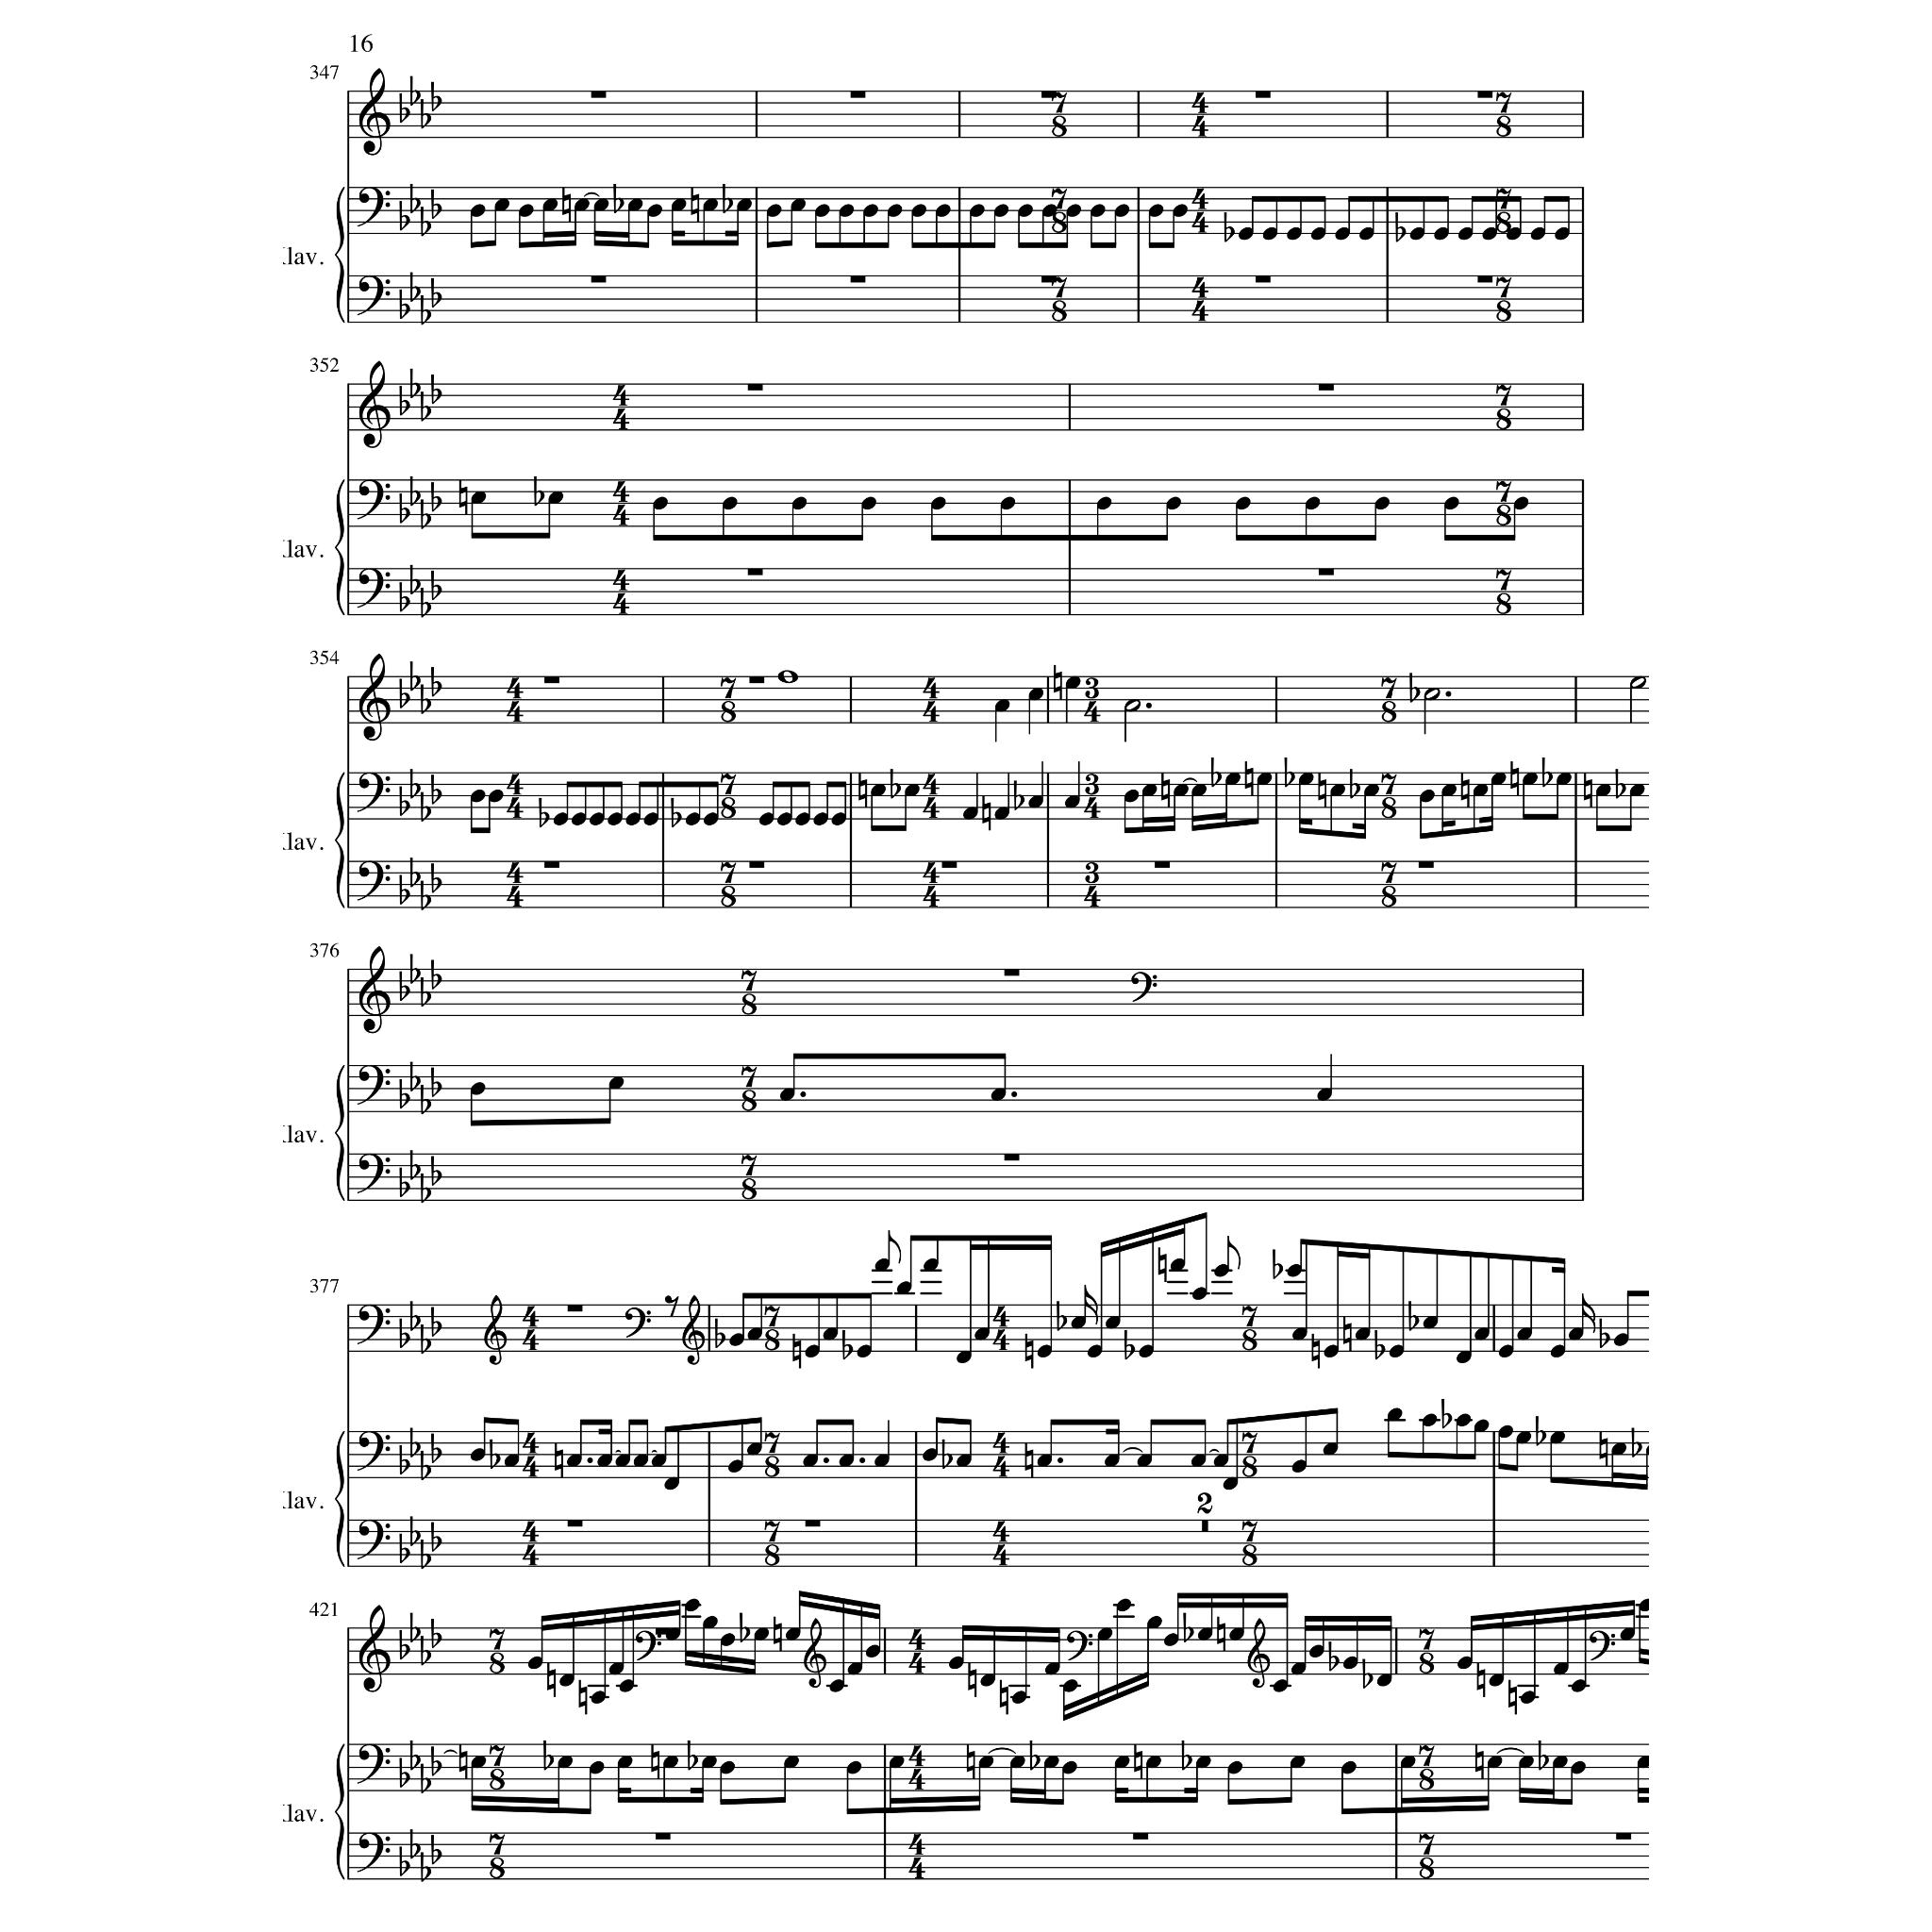brace: (334, 186, 345, 324), (334, 479, 345, 617), (334, 771, 345, 909), (334, 1430, 345, 1568), (334, 1065, 345, 1201), (334, 1744, 345, 1881)
fClef: (357, 276, 391, 317), (357, 188, 391, 228), (357, 568, 391, 609), (357, 479, 391, 520), (357, 771, 391, 812), (357, 1154, 391, 1194), (357, 1065, 391, 1106), (357, 1304, 391, 1345), (357, 1520, 391, 1560), (357, 1431, 391, 1472), (357, 1744, 391, 1785), (357, 1833, 391, 1874), (357, 862, 391, 901)
flag16thUp: (1582, 1293, 1596, 1334), (1085, 1286, 1099, 1325)
flag8thUp: (888, 1230, 902, 1263), (1228, 1235, 1240, 1270)
gClef: (359, 67, 391, 157), (359, 361, 391, 449), (359, 653, 391, 741), (359, 947, 391, 1035), (359, 1605, 391, 1693)
noteheadBlack: (573, 198, 591, 212), (1440, 784, 1458, 798), (587, 812, 605, 826), (830, 812, 847, 826), (745, 1442, 763, 1456), (1497, 1345, 1514, 1359), (1610, 1442, 1628, 1456), (1454, 1414, 1472, 1428), (1042, 1755, 1060, 1769), (1113, 1755, 1131, 1769), (616, 1755, 633, 1769), (587, 1760, 605, 1775), (701, 1755, 718, 1769), (626, 198, 642, 212), (671, 198, 686, 212), (593, 198, 609, 212), (736, 198, 752, 212), (702, 198, 718, 212), (541, 198, 557, 212), (494, 198, 510, 212), (791, 198, 807, 212), (1330, 784, 1346, 798), (1419, 789, 1435, 803), (1364, 784, 1380, 798), (1141, 784, 1157, 798), (1123, 789, 1139, 803), (1065, 676, 1081, 690), (1191, 784, 1207, 798), (1173, 784, 1189, 798), (1472, 784, 1488, 798), (1629, 784, 1645, 798), (1596, 784, 1612, 798), (642, 812, 658, 826), (625, 812, 640, 826), (685, 812, 701, 826), (607, 812, 623, 826), (702, 812, 718, 826), (757, 812, 773, 826), (552, 812, 568, 826), (487, 789, 502, 803), (469, 789, 485, 803), (994, 699, 1010, 713), (1063, 794, 1079, 809), (1028, 794, 1044, 809), (794, 812, 810, 826), (812, 812, 828, 826), (777, 812, 793, 826), (904, 784, 920, 798), (870, 784, 886, 798), (609, 1076, 625, 1090), (469, 1081, 485, 1095), (856, 1345, 872, 1359), (922, 1447, 938, 1461), (895, 1281, 911, 1295), (874, 1258, 890, 1272), (823, 1327, 839, 1341), (805, 1345, 821, 1359), (1070, 1316, 1086, 1330), (975, 1327, 991, 1341), (1037, 1345, 1053, 1359), (924, 1258, 939, 1272), (469, 1447, 485, 1461), (727, 1460, 743, 1474), (747, 1327, 763, 1341), (729, 1332, 745, 1346), (1516, 1327, 1532, 1341), (1550, 1345, 1566, 1359), (1474, 1327, 1490, 1341), (1474, 1419, 1490, 1433), (1614, 1332, 1629, 1346), (1192, 1288, 1208, 1302), (1286, 1263, 1302, 1277), (1214, 1263, 1230, 1277), (1106, 1316, 1122, 1330), (1086, 1345, 1102, 1359), (1169, 1258, 1185, 1272), (1138, 1345, 1154, 1359), (1389, 1345, 1405, 1359), (1387, 1408, 1403, 1422), (1353, 1327, 1369, 1341), (1422, 1316, 1438, 1330), (1421, 1414, 1437, 1428), (1292, 1460, 1307, 1474), (1323, 1345, 1339, 1359), (1322, 1442, 1338, 1456), (1292, 1327, 1307, 1341), (1226, 1760, 1242, 1775), (1194, 1755, 1210, 1769), (1272, 1679, 1288, 1693), (1341, 1760, 1357, 1775), (1290, 1755, 1306, 1769), (1062, 1760, 1077, 1775), (1062, 1679, 1077, 1693), (1146, 1755, 1162, 1769), (1146, 1615, 1162, 1629), (1571, 1760, 1587, 1775), (1518, 1755, 1534, 1769), (1552, 1755, 1568, 1769), (1571, 1679, 1587, 1693), (1401, 1755, 1417, 1769), (1343, 1656, 1359, 1670), (1488, 1755, 1504, 1769), (1458, 1656, 1474, 1670), (619, 1679, 635, 1693), (663, 1755, 679, 1769), (557, 1755, 573, 1769), (471, 1755, 487, 1769), (527, 1656, 543, 1670), (948, 1656, 964, 1670), (888, 1755, 904, 1769), (1010, 1755, 1026, 1769), (978, 1755, 994, 1769), (784, 1755, 800, 1769), (702, 1615, 718, 1629), (720, 1760, 736, 1775), (846, 1760, 862, 1775), (828, 1679, 844, 1693), (1113, 205, 1131, 218), (1553, 228, 1571, 241), (517, 205, 534, 218), (801, 1454, 819, 1467), (502, 1454, 520, 1467), (1454, 1352, 1472, 1364), (1497, 1426, 1514, 1438), (1228, 1628, 1246, 1640), (571, 812, 586, 826), (1569, 1327, 1583, 1341), (1261, 228, 1277, 241), (1237, 228, 1253, 241), (1359, 228, 1375, 241), (1334, 228, 1350, 241), (1309, 228, 1325, 241), (1286, 228, 1302, 241), (1040, 205, 1056, 218), (1148, 205, 1164, 218), (1090, 205, 1106, 218), (1065, 205, 1081, 218), (1173, 205, 1189, 218), (1530, 228, 1546, 241), (1433, 228, 1449, 241), (1408, 228, 1424, 241), (1506, 228, 1522, 241), (1481, 228, 1497, 241), (1458, 228, 1474, 241), (648, 205, 663, 218), (766, 205, 782, 218), (469, 205, 485, 218), (970, 205, 985, 218), (934, 205, 950, 218), (911, 205, 927, 218), (886, 205, 902, 218), (1017, 205, 1033, 218), (993, 205, 1008, 218), (814, 205, 830, 218), (839, 205, 855, 218), (863, 205, 879, 218), (1166, 497, 1182, 510), (1235, 497, 1251, 510), (1095, 497, 1111, 510), (1304, 497, 1320, 510), (1375, 497, 1391, 510), (1444, 497, 1460, 510), (1513, 497, 1529, 510), (471, 492, 487, 504), (548, 492, 564, 504), (1000, 497, 1016, 510), (931, 497, 947, 510), (722, 497, 738, 510), (791, 497, 807, 510), (862, 497, 878, 510), (653, 497, 669, 510), (1299, 773, 1315, 786), (1256, 773, 1272, 786), (1224, 773, 1240, 786), (1522, 773, 1537, 786), (1490, 773, 1506, 786), (1557, 773, 1573, 786), (994, 807, 1010, 819), (962, 807, 978, 819), (1028, 688, 1044, 701), (991, 1088, 1007, 1100), (1316, 1088, 1332, 1100), (780, 1088, 796, 1100), (874, 1454, 890, 1467), (839, 1454, 855, 1467), (1037, 1454, 1053, 1467), (955, 1352, 971, 1364), (955, 1454, 971, 1467), (566, 1454, 582, 1467), (596, 1454, 612, 1467), (633, 1454, 649, 1467), (651, 1454, 667, 1467), (663, 1477, 679, 1490), (1516, 1431, 1532, 1444), (1550, 1431, 1566, 1444), (1212, 1454, 1228, 1467), (1223, 1477, 1238, 1490), (1136, 1454, 1152, 1467), (1104, 1454, 1120, 1467), (1198, 1628, 1214, 1640), (1292, 1663, 1307, 1675), (1309, 1645, 1325, 1658), (1097, 1628, 1113, 1640), (1044, 1663, 1060, 1675), (1162, 1633, 1178, 1645), (1116, 1599, 1132, 1612), (1553, 1663, 1569, 1675), (1520, 1691, 1536, 1704), (1619, 1628, 1635, 1640), (1376, 1674, 1392, 1686), (1488, 1674, 1504, 1686), (609, 1663, 625, 1675), (559, 1674, 575, 1686), (591, 1691, 607, 1704), (683, 1599, 699, 1612), (665, 1628, 681, 1640), (980, 1674, 996, 1686), (1010, 1691, 1026, 1704), (865, 1645, 881, 1658), (754, 1628, 770, 1640), (720, 1633, 736, 1645), (847, 1663, 863, 1675), (784, 1628, 800, 1640), (616, 1454, 630, 1467), (1191, 1454, 1205, 1467)
noteheadHalf: (1629, 676, 1645, 690), (1123, 701, 1141, 713), (1424, 688, 1440, 701)
noteheadWhole: (777, 671, 798, 685)
rest8th: (663, 1295, 679, 1318)
restHNr: (1196, 1491, 1212, 1516)
restWhole: (748, 676, 764, 685), (543, 676, 559, 685), (566, 1304, 582, 1313), (655, 1628, 671, 1637), (1040, 276, 1056, 283), (849, 92, 865, 99), (849, 276, 865, 283), (1040, 92, 1056, 99), (1254, 92, 1270, 99), (1254, 276, 1270, 283), (1477, 92, 1493, 99), (1477, 276, 1493, 283), (591, 276, 607, 283), (591, 92, 607, 99), (747, 570, 763, 577), (747, 384, 763, 391), (1318, 384, 1334, 391), (1318, 570, 1334, 577), (1419, 862, 1435, 869), (748, 862, 764, 869), (1154, 862, 1169, 869), (941, 862, 957, 869), (543, 862, 559, 869), (1003, 1154, 1019, 1161), (1003, 970, 1019, 977), (805, 1520, 821, 1527), (566, 1520, 582, 1527), (1132, 1833, 1148, 1840), (1615, 1833, 1631, 1840), (655, 1833, 671, 1840), (1201, 1520, 1208, 1532)
